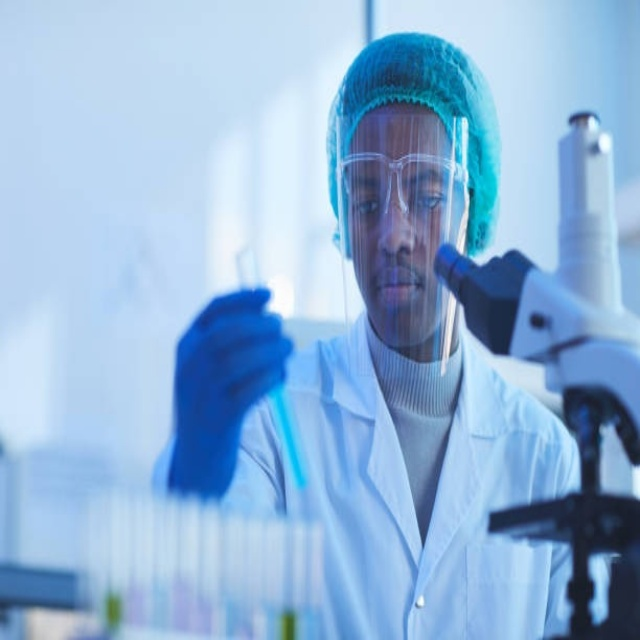Gafas: (337, 149, 467, 221)
Guantes: (165, 287, 294, 494)
Sin_mascara: (369, 260, 425, 320)
